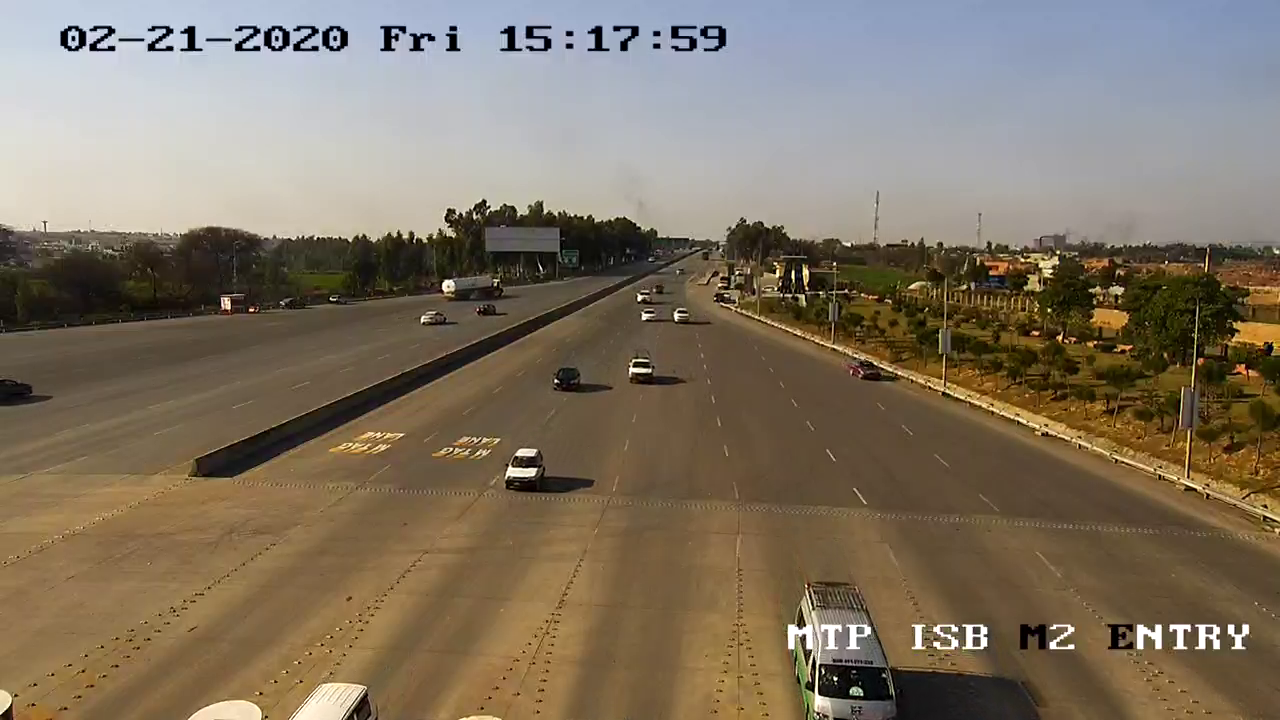f1: (495, 442, 555, 502)
